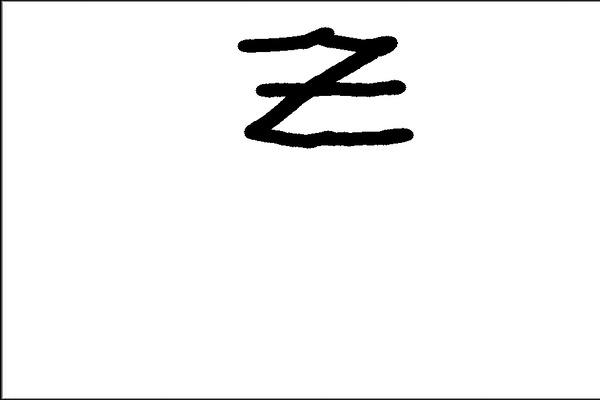Z: (234, 22, 423, 151)
